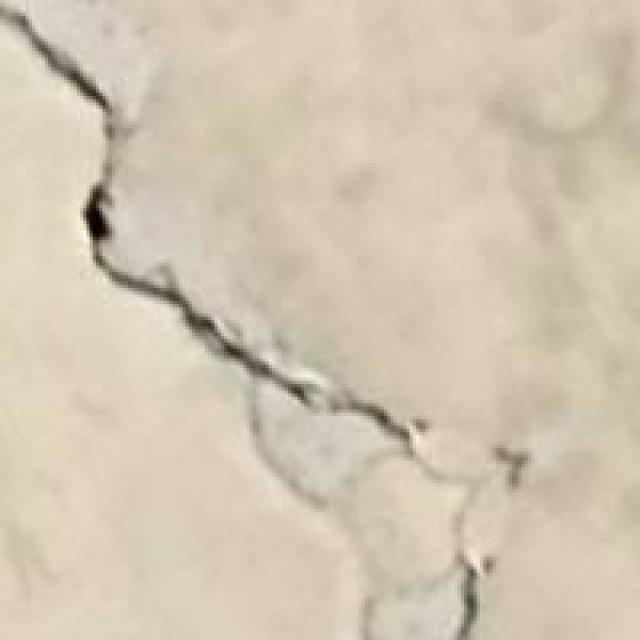crack: (3, 0, 429, 493)
